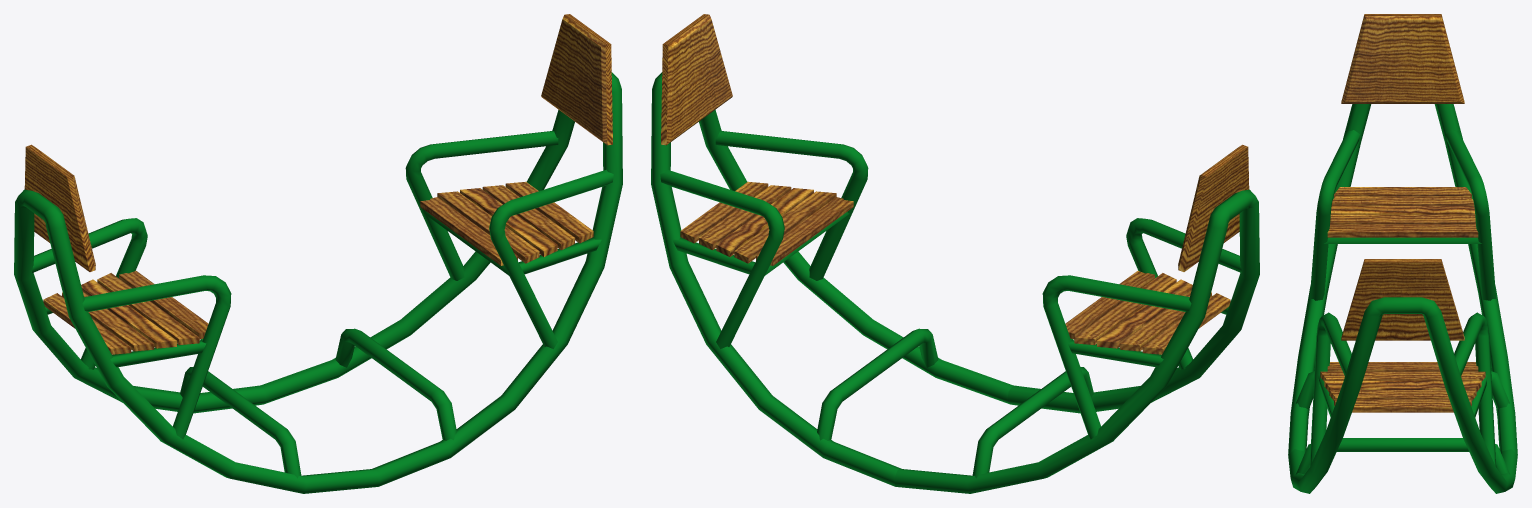
The model's file is seesaw.fbx.
The picture shows the model from 3 angles, left to right: view 1: azimuth 30°, elevation 25°; view 2: azimuth 150°, elevation 25°; view 3: azimuth 270°, elevation 25°; orthographic projection. The views are drawn at different scales.
Visible parts, largest first — view 1: seesaw-type1; view 2: seesaw-type1; view 3: seesaw-type1.
Boxes of the visible parts, x1=… form: seesaw-type1: x1=14, y1=14, x2=622, y2=493; seesaw-type1: x1=651, y1=14, x2=1259, y2=493; seesaw-type1: x1=1288, y1=14, x2=1517, y2=493.
Bounding box in the file's own units: 200 × 117 × 74.52.
1 material, 1 textured.
